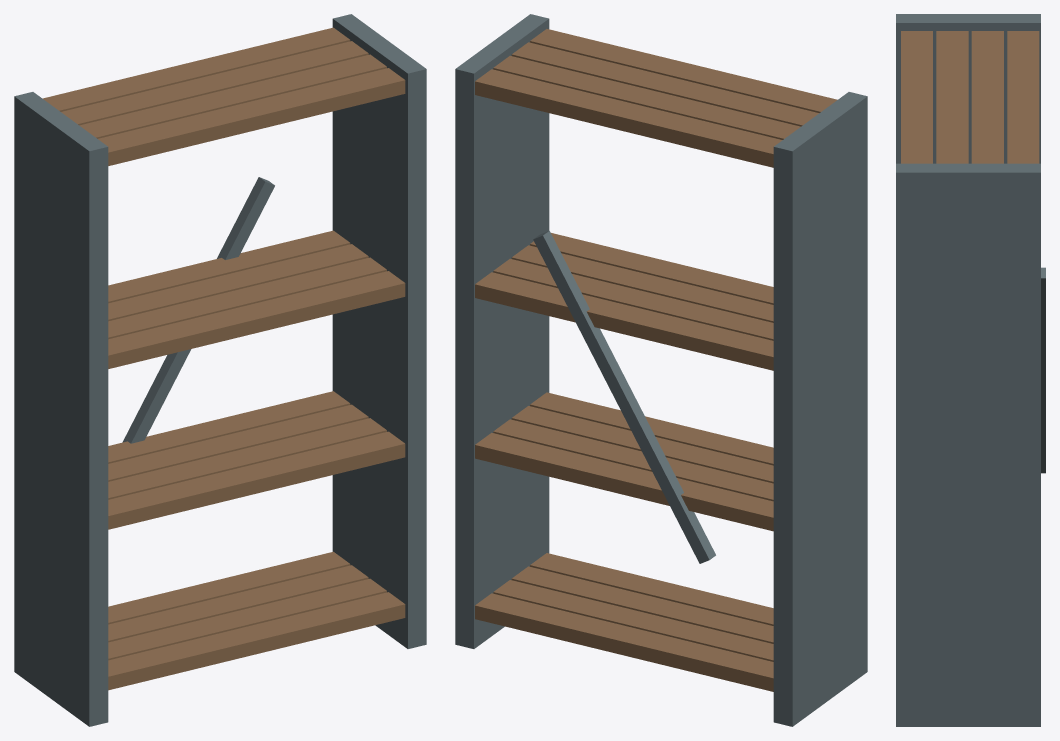
File: shelf.glb
3 views of the same model, side by side, from view 1: azimuth 30°, elevation 25°; view 2: azimuth 150°, elevation 25°; view 3: azimuth 270°, elevation 25° (orthographic). The views are drawn at different scales.
Parts seen in each view (by area): view 1: Открытый стеллаж; view 2: Открытый стеллаж; view 3: Открытый стеллаж.
Part boxes in pixels (x1,y1,x2,y2): Открытый стеллаж: (14,14,426,726); Открытый стеллаж: (455,14,867,726); Открытый стеллаж: (896,14,1045,726).
Bounding box in the file's own units: 1.16 × 1.9 × 0.465.
